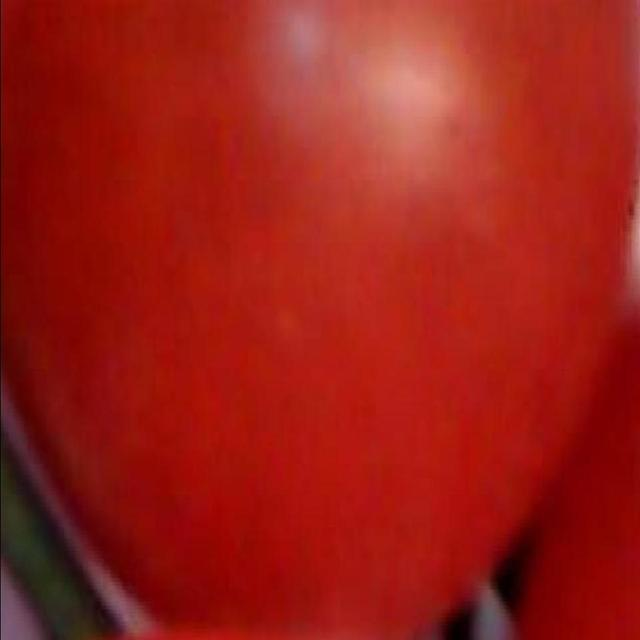Healthy Fruit: (0, 0, 412, 421)
